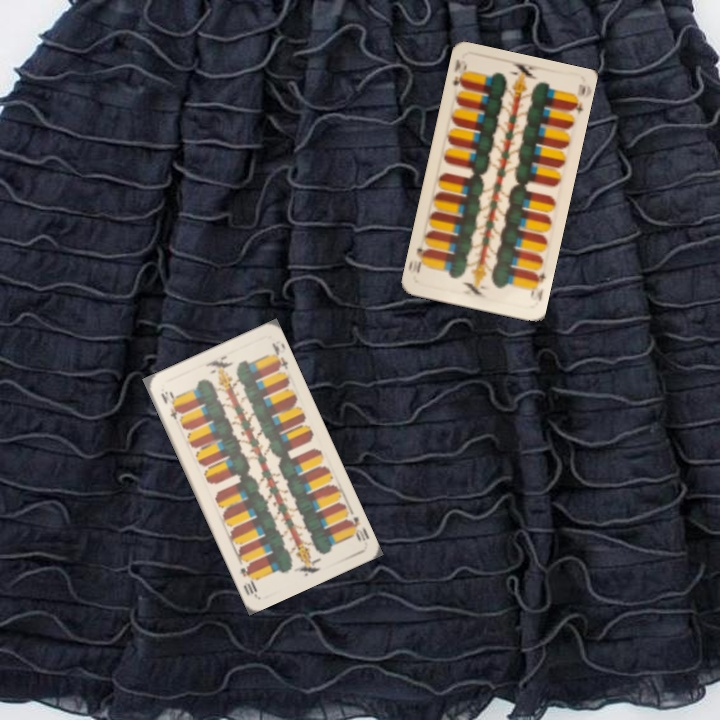E10: (340, 509, 371, 544), (157, 387, 182, 422), (449, 55, 471, 92), (526, 267, 549, 300)
